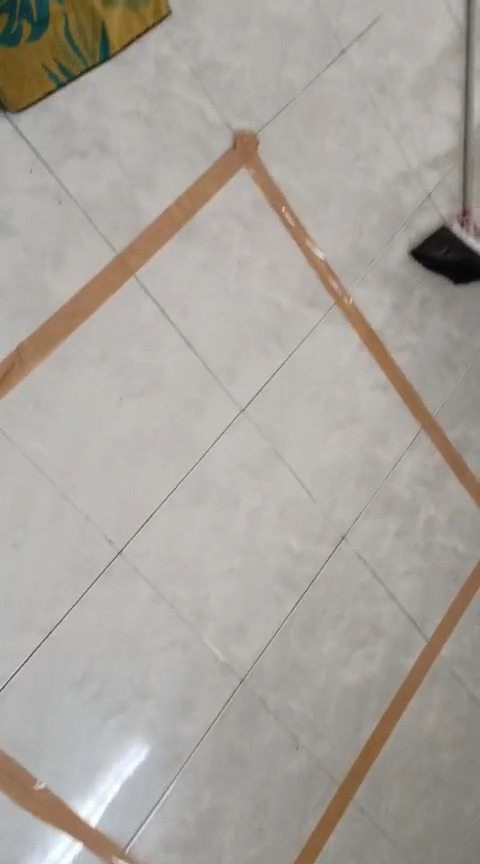floor marking: (0, 133, 479, 503), (294, 563, 479, 863), (0, 750, 137, 863)
